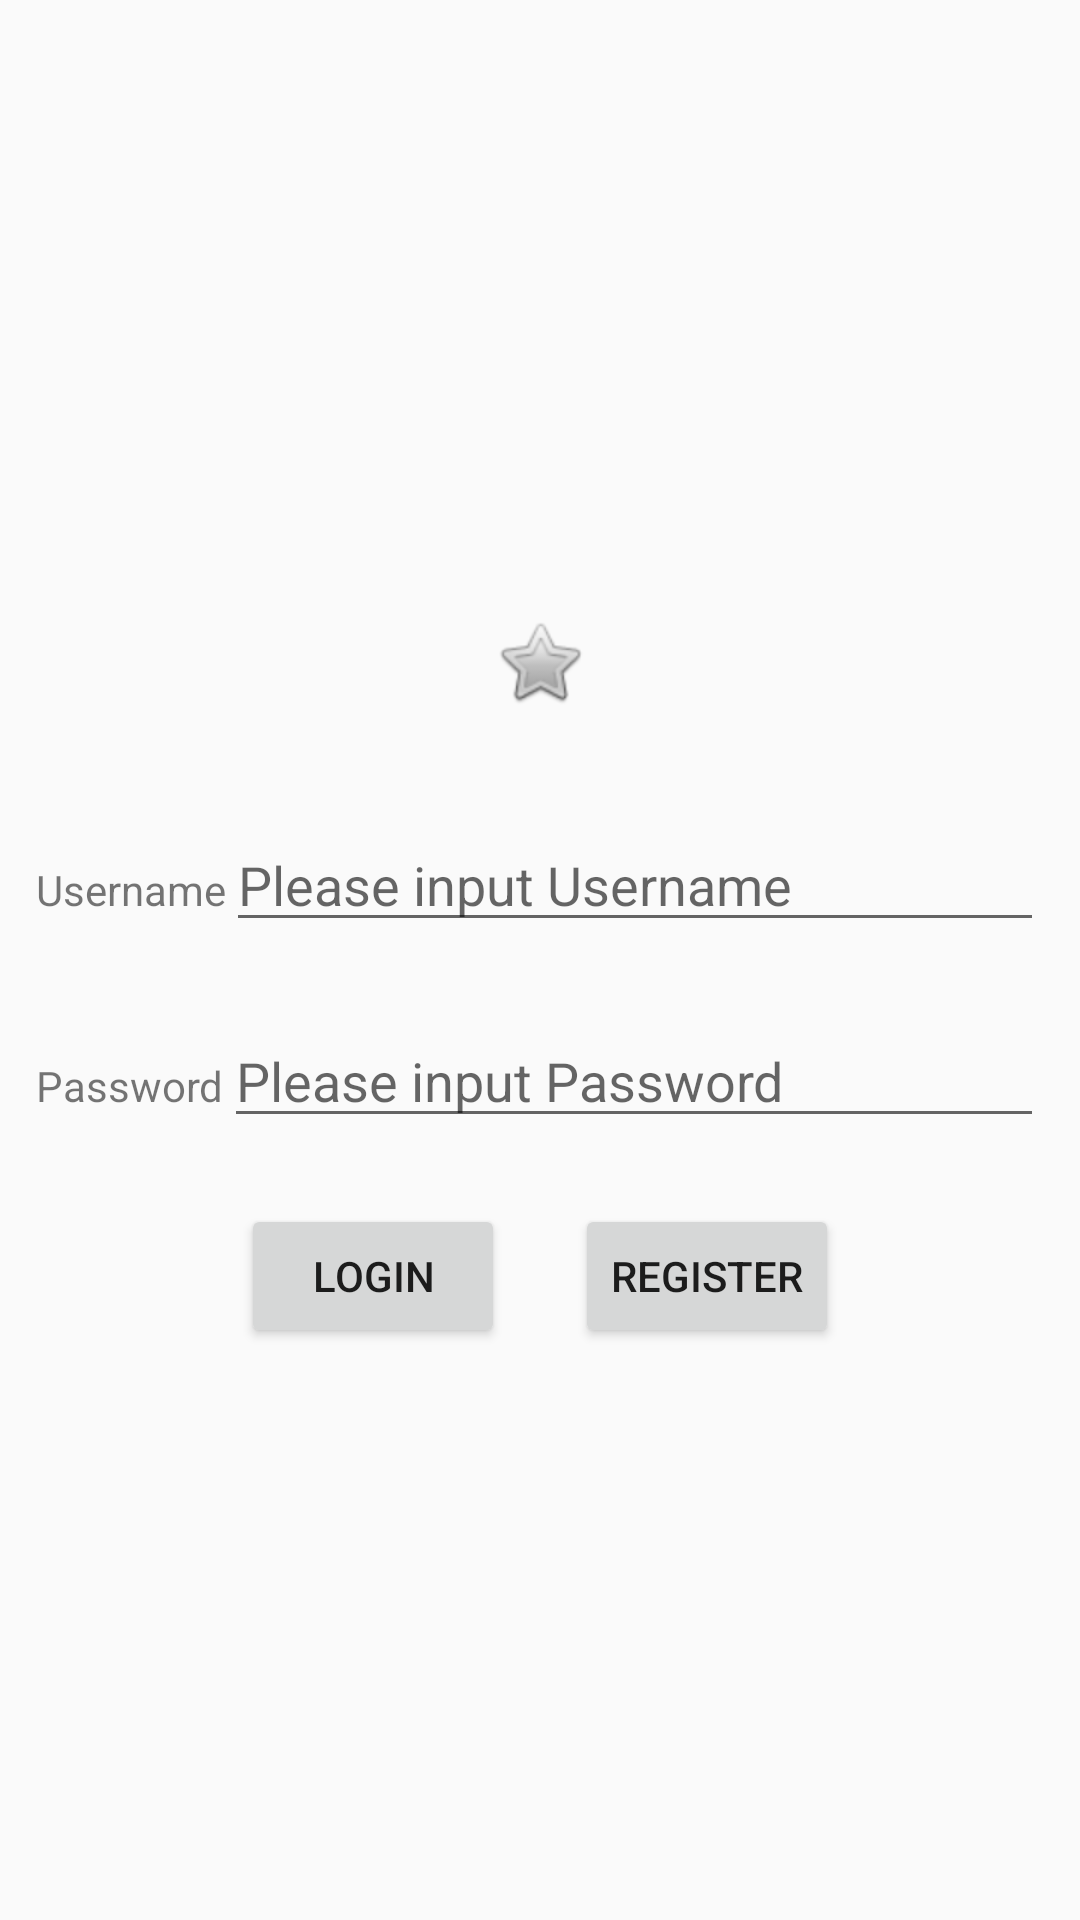

Icons on this 1080*1920 Android screen, each with its box as (x1, y1, x2, y2):
star off: (501, 624, 581, 702)
